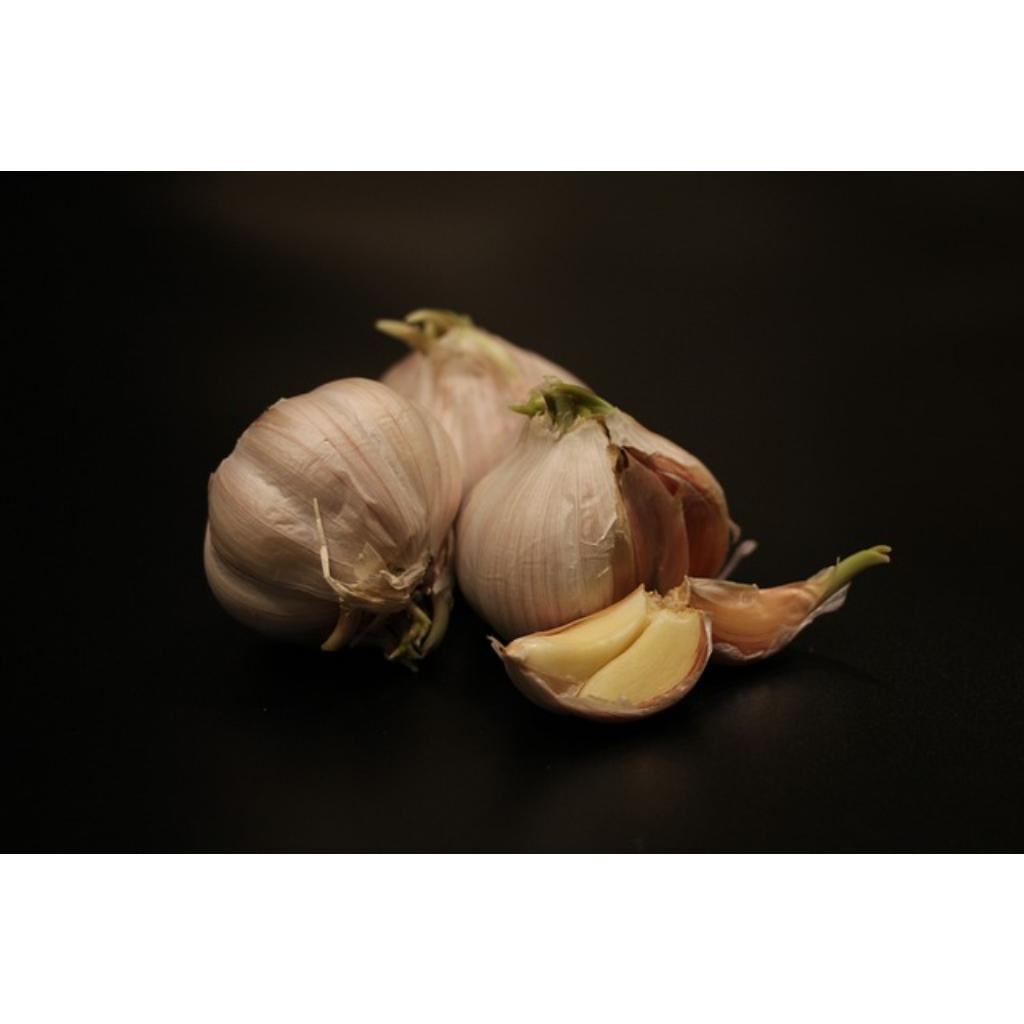garlic: (204, 378, 462, 665), (456, 380, 734, 637), (376, 308, 582, 495)
